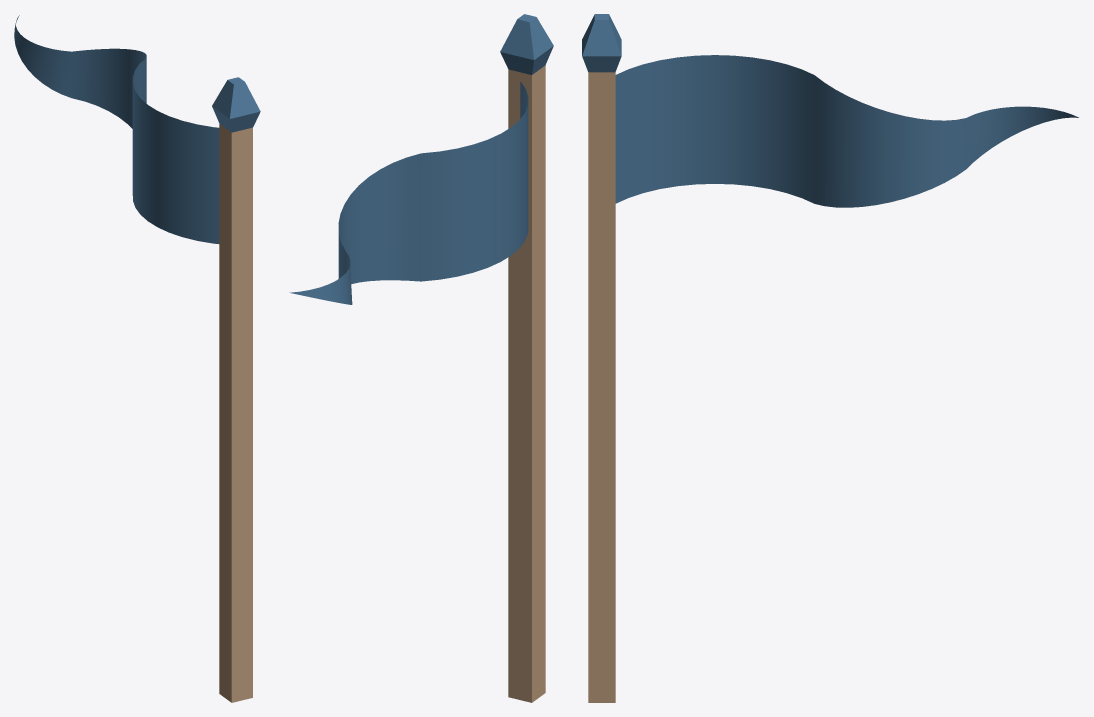
Rendered from flagBlue.obj.
3 renders of one model, left to right at view 1: azimuth 30°, elevation 25°; view 2: azimuth 150°, elevation 25°; view 3: azimuth 270°, elevation 25°, orthographic. The views are drawn at different scales.
Parts seen in each view (by area): view 1: flagBlue, flag; view 2: flag, flagBlue; view 3: flag, flagBlue.
Part boxes in pixels (box(x1,y1,x2,y2)): flagBlue: box(212, 77, 260, 702); flag: box(14, 15, 219, 243); flag: box(289, 81, 528, 304); flagBlue: box(500, 14, 553, 702); flag: box(615, 55, 1078, 207); flagBlue: box(582, 14, 621, 702).
Size of the model in its own units: 0.8991 by 7.92 by 5.25.
